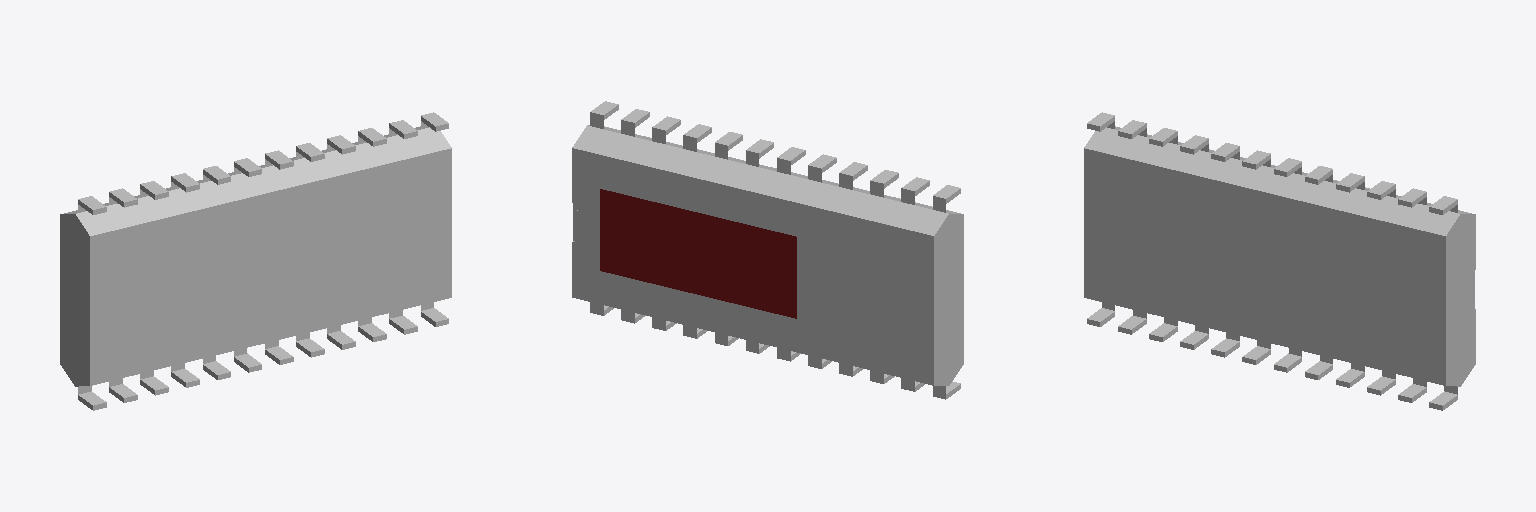
File: Dil-24.obj
The picture shows the model from 3 angles: view 1: azimuth 30°, elevation 25°; view 2: azimuth 150°, elevation 25°; view 3: azimuth 330°, elevation 25°; orthographic projection.
Visible parts, largest first — view 1: ShapeIndexedFaceSet.048_ShapeIndexedFaceSet.049; view 2: ShapeIndexedFaceSet.048_ShapeIndexedFaceSet.049, ShapeIndexedFaceSet.050_ShapeIndexedFaceSet; view 3: ShapeIndexedFaceSet.048_ShapeIndexedFaceSet.049.
Boxes of the visible parts, x1,y1,x2,y2 form: ShapeIndexedFaceSet.048_ShapeIndexedFaceSet.049: [60, 126, 451, 386]; ShapeIndexedFaceSet.048_ShapeIndexedFaceSet.049: [572, 125, 963, 385]; ShapeIndexedFaceSet.050_ShapeIndexedFaceSet: [600, 189, 796, 318]; ShapeIndexedFaceSet.048_ShapeIndexedFaceSet.049: [1084, 126, 1475, 386].
Bounding box in the file's own units: 29.53 × 15.64 × 4.29.